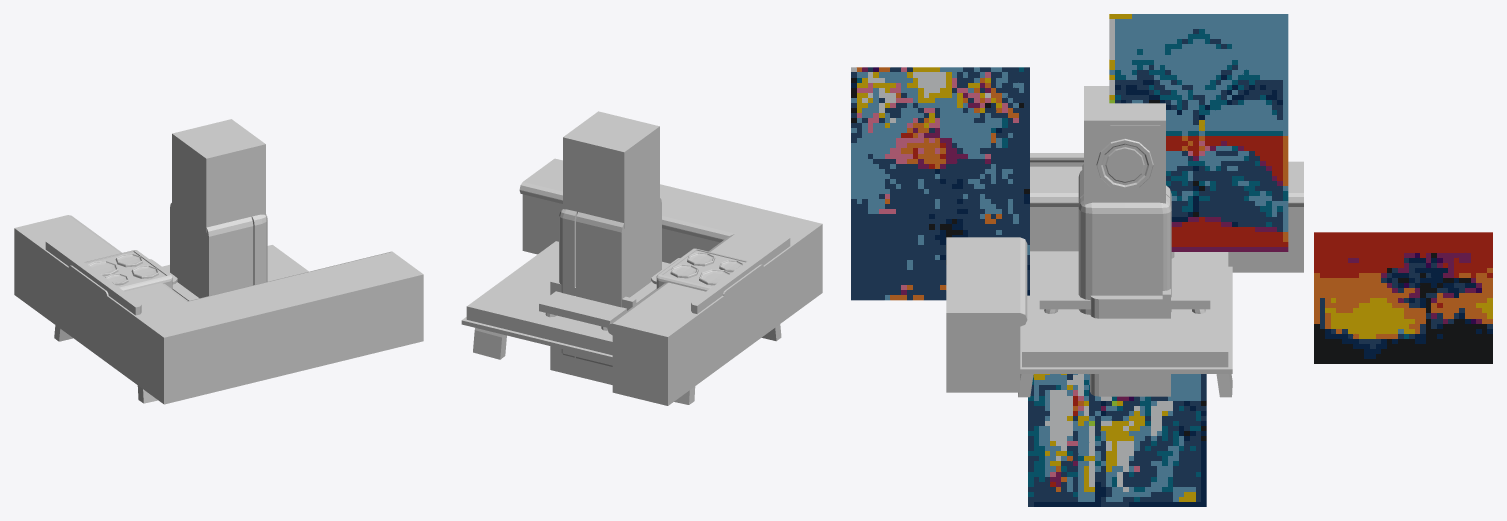
File: Decor.glb
3 renders of one model, left to right at view 1: azimuth 30°, elevation 25°; view 2: azimuth 150°, elevation 25°; view 3: azimuth 270°, elevation 25°, orthographic. The views are drawn at different scales.
Parts seen in each view (by area): view 1: Bench2, Bench1, washing machine, Fridge, oven, bed; view 2: Bench2, Bench1, bed, washing machine, Fridge, oven, coffeeTable, sink; view 3: Painting.001, Painting.002, Painting, Painting.003, bed, Bench2, Fridge, washing machine, Bench1, coffeeTable, sink.
Boxes of the visible parts, <box> form: Bench2: <box>14,215,423,403</box>; Bench1: <box>14,215,222,404</box>; washing machine: <box>172,119,265,232</box>; Fridge: <box>170,203,267,298</box>; oven: <box>68,250,177,358</box>; bed: <box>45,240,308,403</box>; Bench2: <box>519,158,822,405</box>; Bench1: <box>607,210,822,405</box>; bed: <box>461,236,790,404</box>; washing machine: <box>563,111,659,228</box>; Fridge: <box>559,198,661,366</box>; oven: <box>651,248,763,295</box>; coffeeTable: <box>539,261,669,330</box>; sink: <box>550,279,656,384</box>; Painting.001: <box>851,67,1029,300</box>; Painting.002: <box>1109,14,1288,251</box>; Painting: <box>1314,232,1492,363</box>; Painting.003: <box>1028,374,1206,506</box>; bed: <box>1018,153,1232,397</box>; Bench2: <box>946,175,1303,392</box>; Fridge: <box>1078,168,1171,374</box>; washing machine: <box>1084,86,1165,205</box>; Bench1: <box>1030,161,1303,272</box>; coffeeTable: <box>1039,260,1210,313</box>; sink: <box>1090,289,1170,396</box>.
Bounding box in the file's own units: 2 × 3.04 × 3.59.
Materials: 5 (5 with a texture image).
